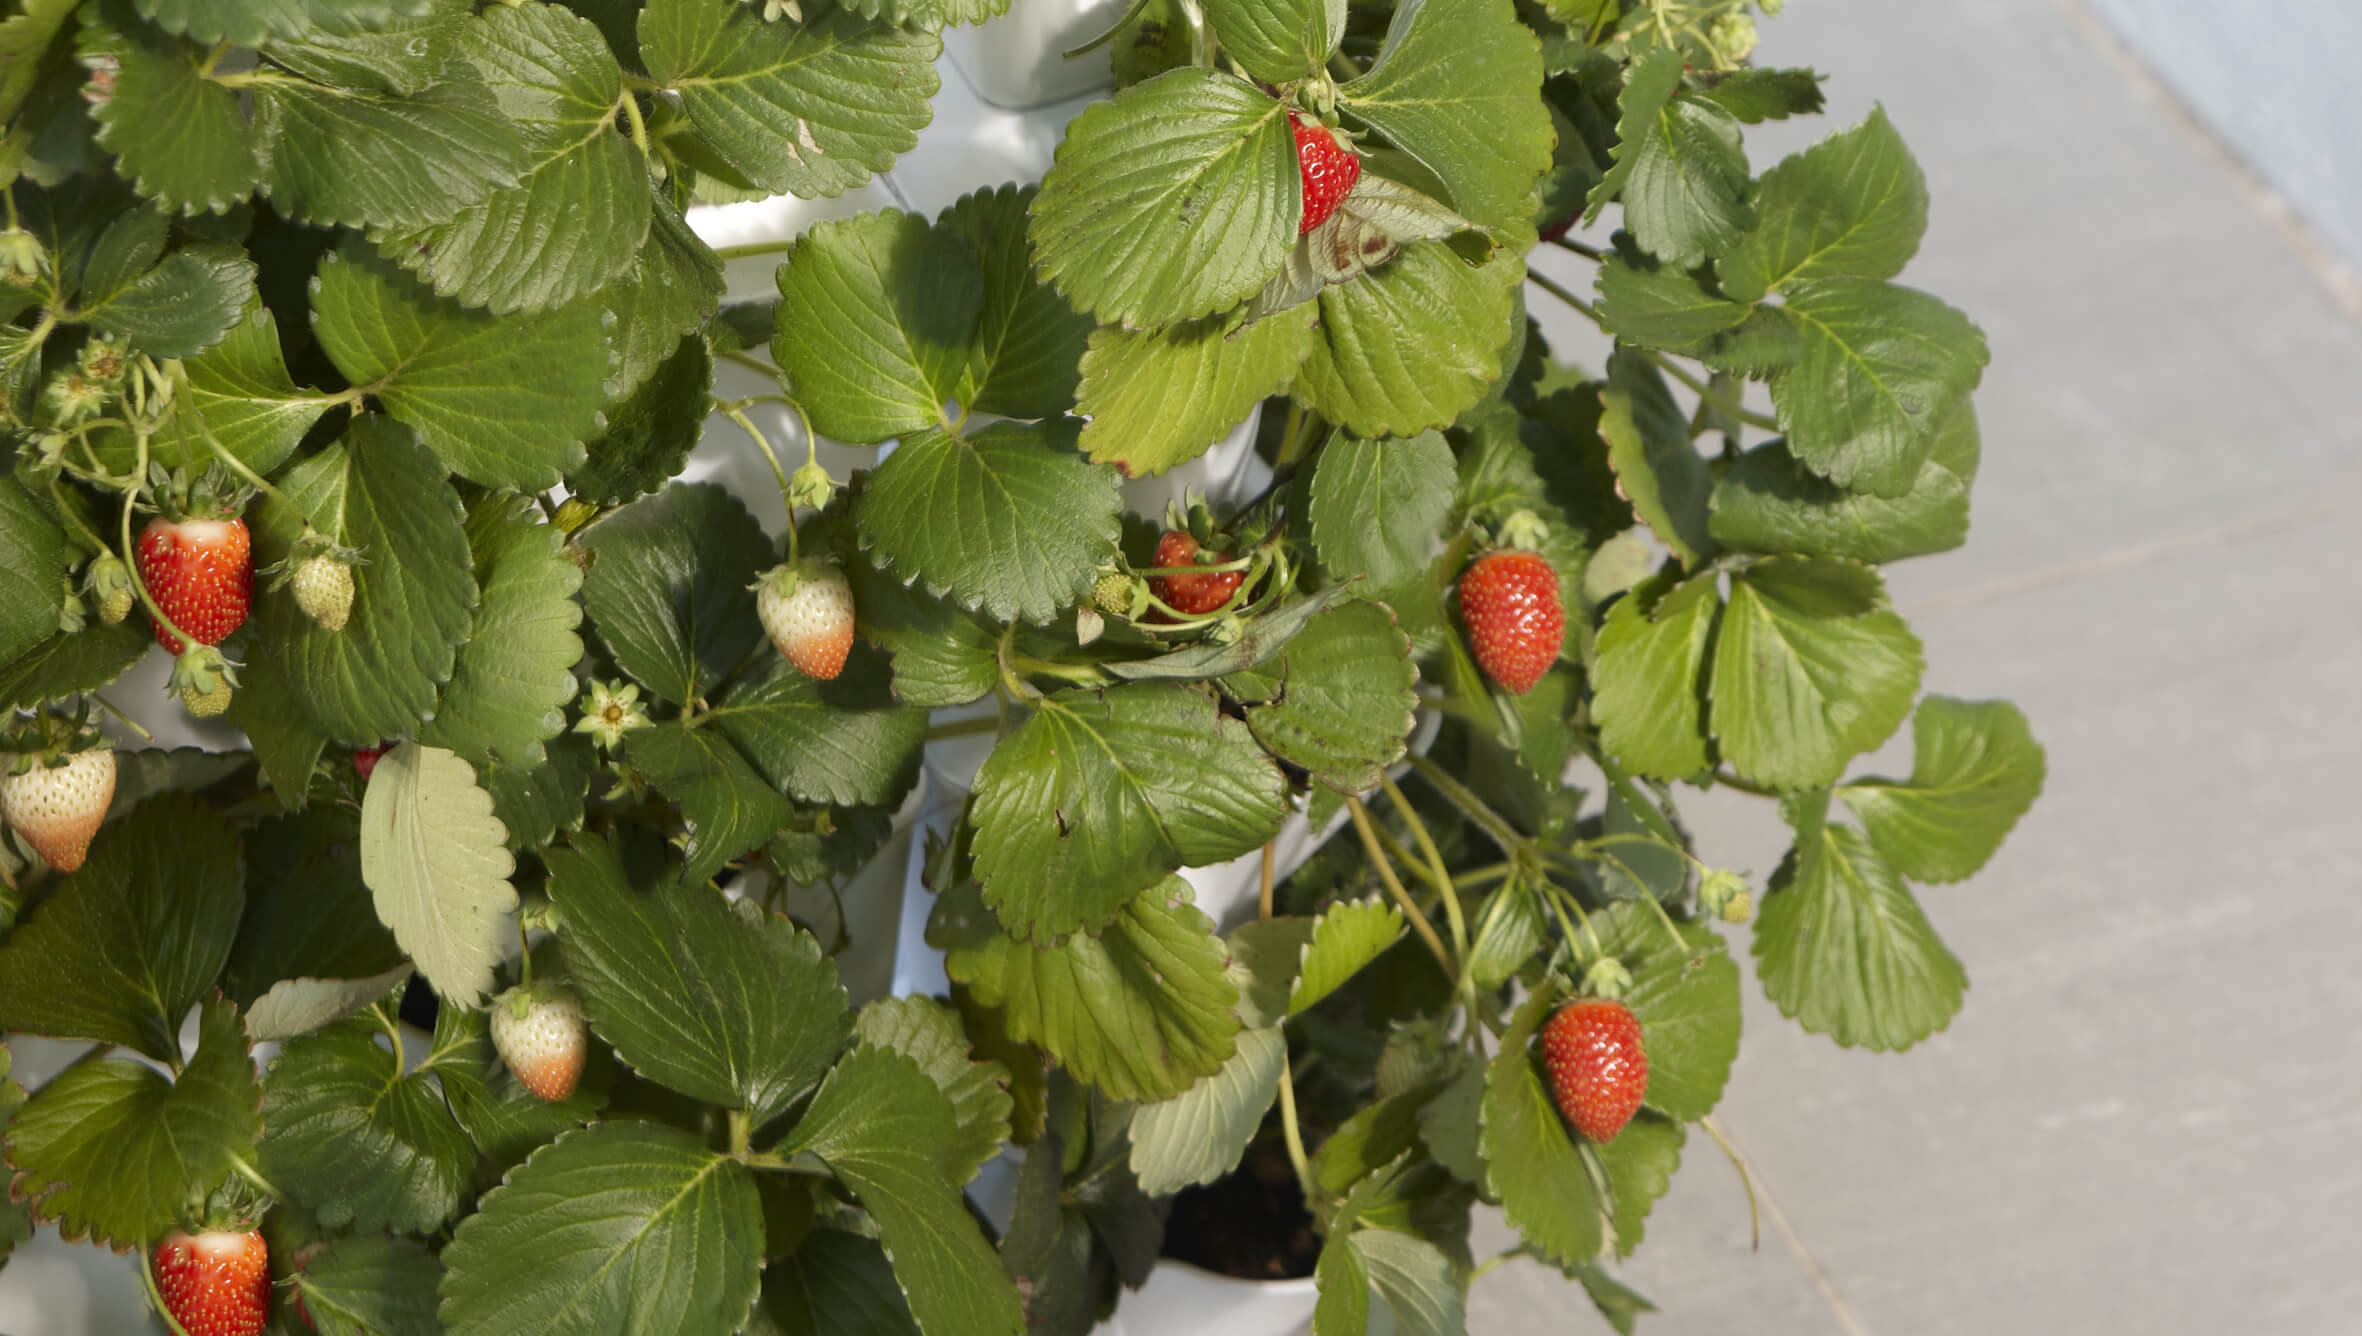ripe_strawberry: (131, 504, 255, 657), (1458, 543, 1570, 699), (1543, 996, 1655, 1141), (149, 1218, 271, 1336), (1285, 105, 1366, 240), (1149, 527, 1251, 618), (289, 1239, 336, 1336)
unripe_strawberry: (2, 731, 122, 880), (754, 559, 861, 684), (490, 979, 590, 1106), (290, 540, 357, 637), (1374, 1023, 1452, 1103), (174, 647, 242, 725)
